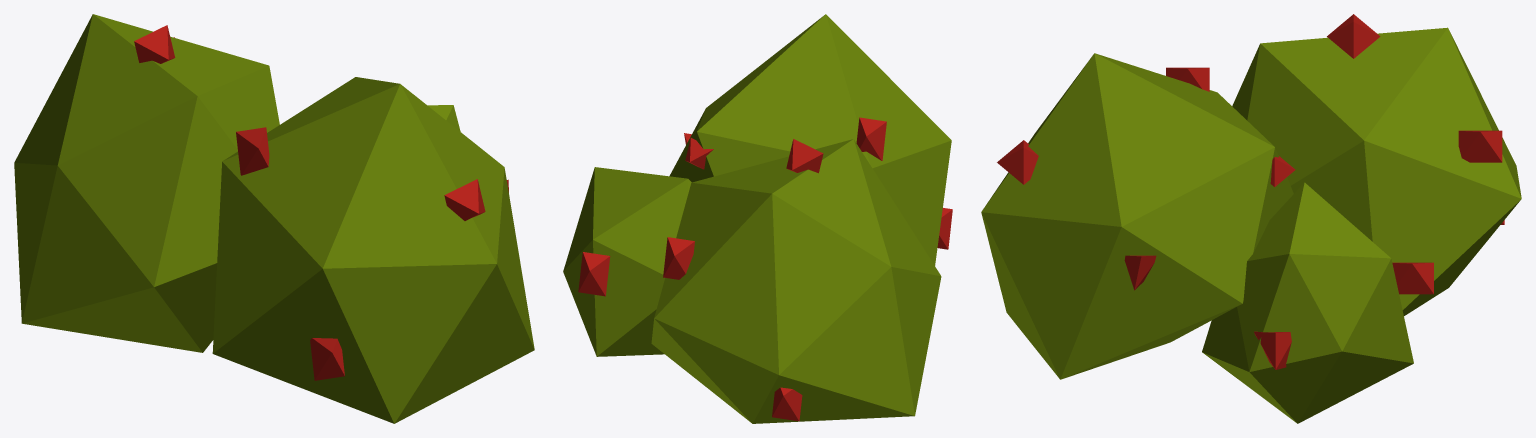
Rendered from BerryBush.fbx.
The picture shows the model from 3 angles, left to right: view 1: azimuth 30°, elevation 25°; view 2: azimuth 150°, elevation 25°; view 3: azimuth 270°, elevation 25°; orthographic projection. The views are drawn at different scales.
Visible parts, largest first — view 1: BerryBush; view 2: BerryBush; view 3: BerryBush.
Part boxes in pixels (x1,y1,x2,y2): BerryBush: (14,14,534,423); BerryBush: (563,14,952,423); BerryBush: (981,14,1521,423).
Bounding box in the file's own units: 70.92 × 52.04 × 81.7.
